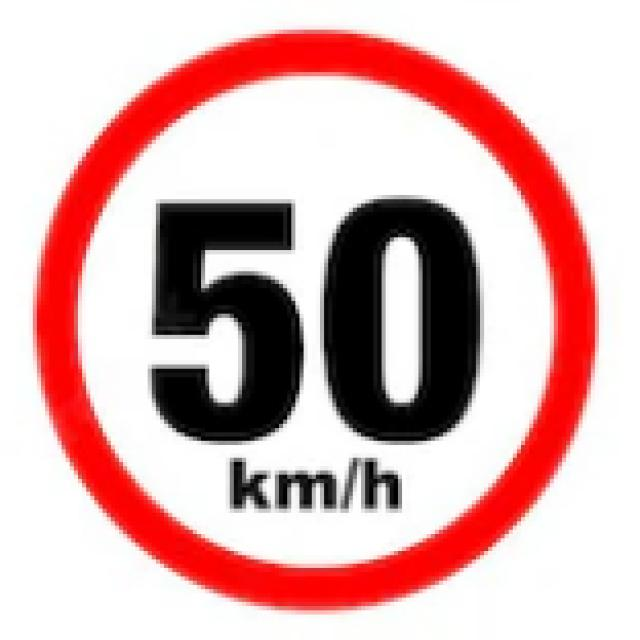Speed Limit -50-: (144, 190, 490, 450)
